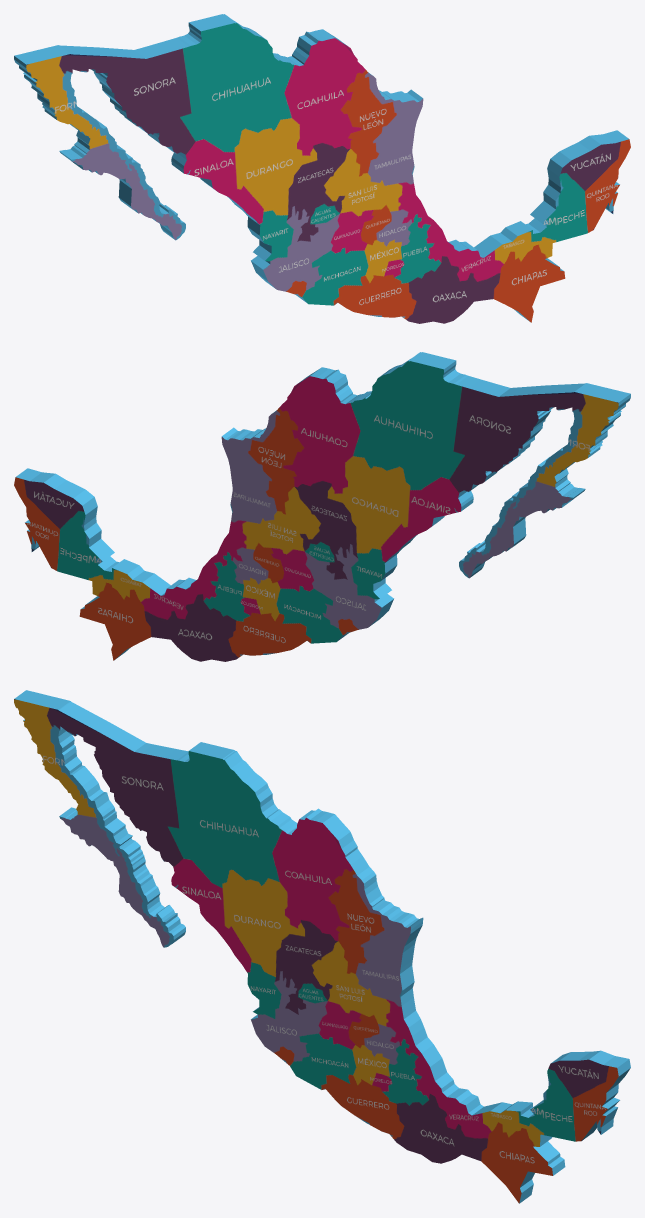
The model's file is mapamexico.glb.
The picture shows the model from 3 angles, top to bottom: view 1: azimuth 30°, elevation 25°; view 2: azimuth 150°, elevation 25°; view 3: azimuth 330°, elevation 25°; orthographic projection.
Visible parts, largest first — view 1: Plano; view 2: Plano; view 3: Plano.
Boxes of the visible parts, x1,y1,x2,y2 form: Plano: (14, 14, 630, 323); Plano: (14, 352, 630, 661); Plano: (14, 690, 630, 1203).
Size of the model in its own units: 1.05 by 0.632 by 0.0367.
Materials: 1 (1 with a texture image).
